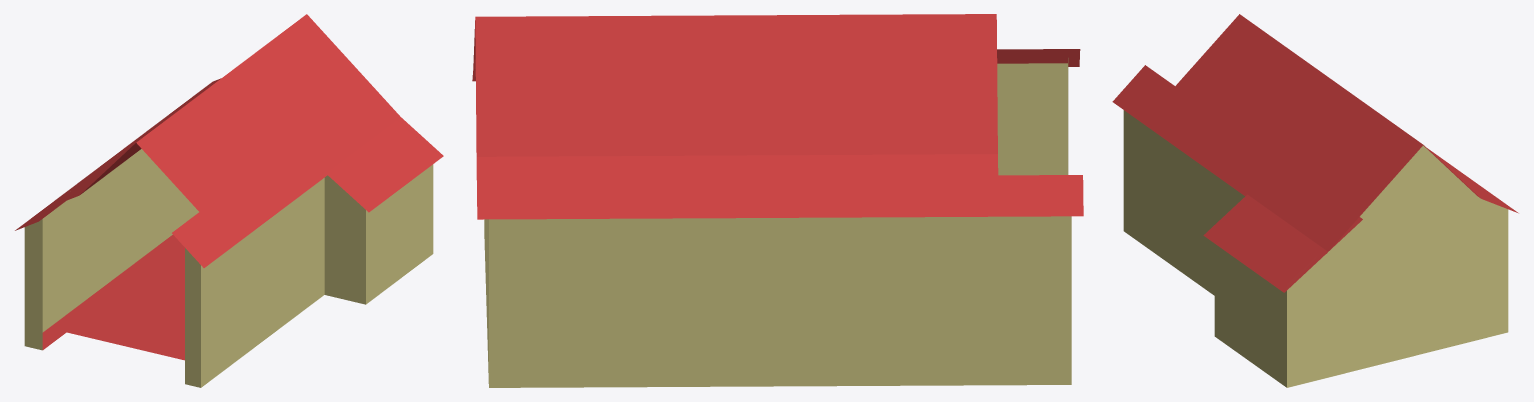
3 views of the same model, side by side, from view 1: azimuth 30°, elevation 25°; view 2: azimuth 150°, elevation 25°; view 3: azimuth 270°, elevation 25° (orthographic). The views are drawn at different scales.
Bounding box in the file's own units: 30.75 × 25.04 × 14.44.
